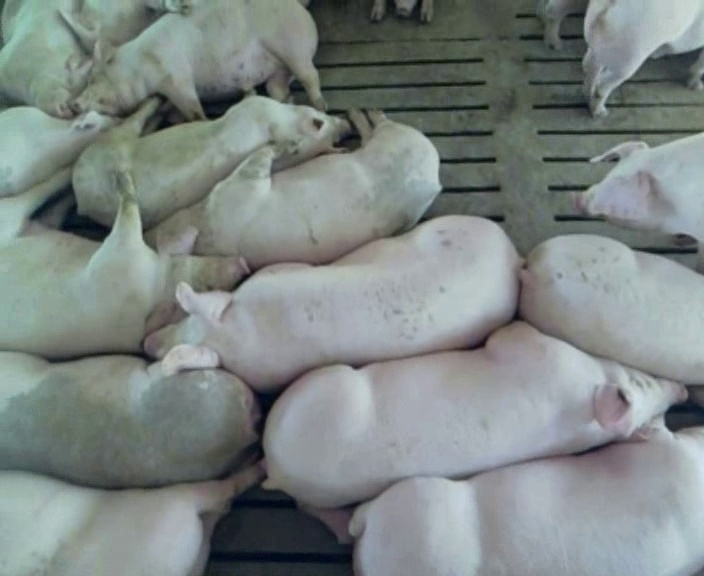pig: (264, 322, 685, 507), (145, 216, 520, 390), (303, 427, 703, 574), (145, 107, 440, 268), (73, 96, 349, 226), (71, 2, 324, 118), (0, 464, 262, 574), (520, 235, 703, 384), (575, 133, 703, 256), (0, 107, 122, 196), (0, 1, 91, 117), (58, 1, 191, 53)
